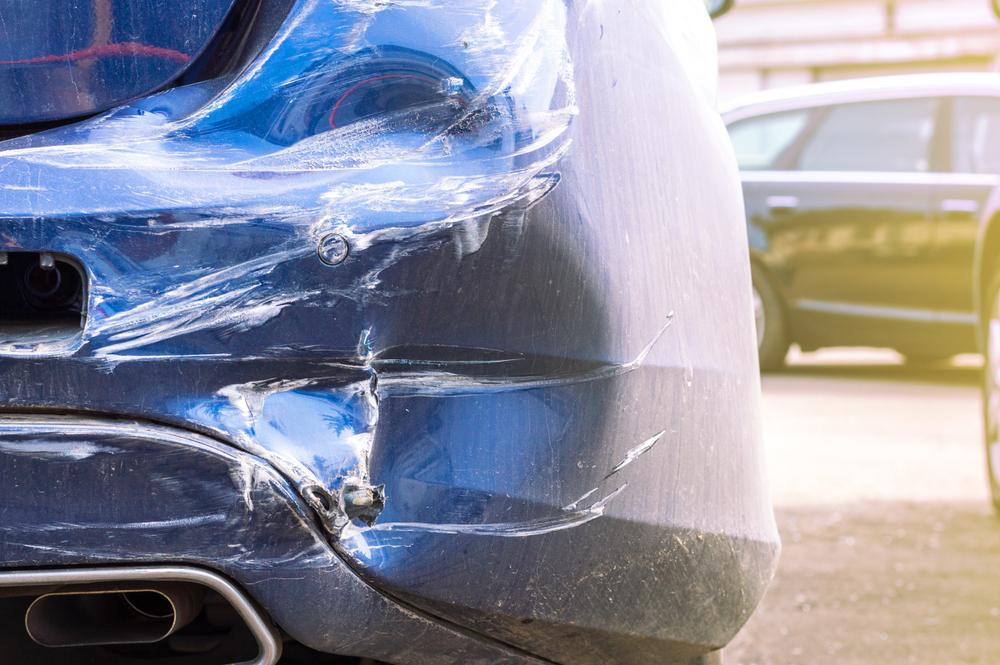dent: (67, 3, 615, 547)
scratch: (304, 0, 579, 212), (456, 308, 677, 544), (0, 420, 326, 571)
